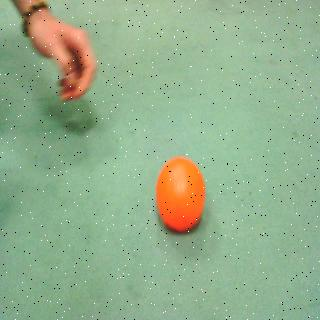orange: (155, 153, 208, 236)
